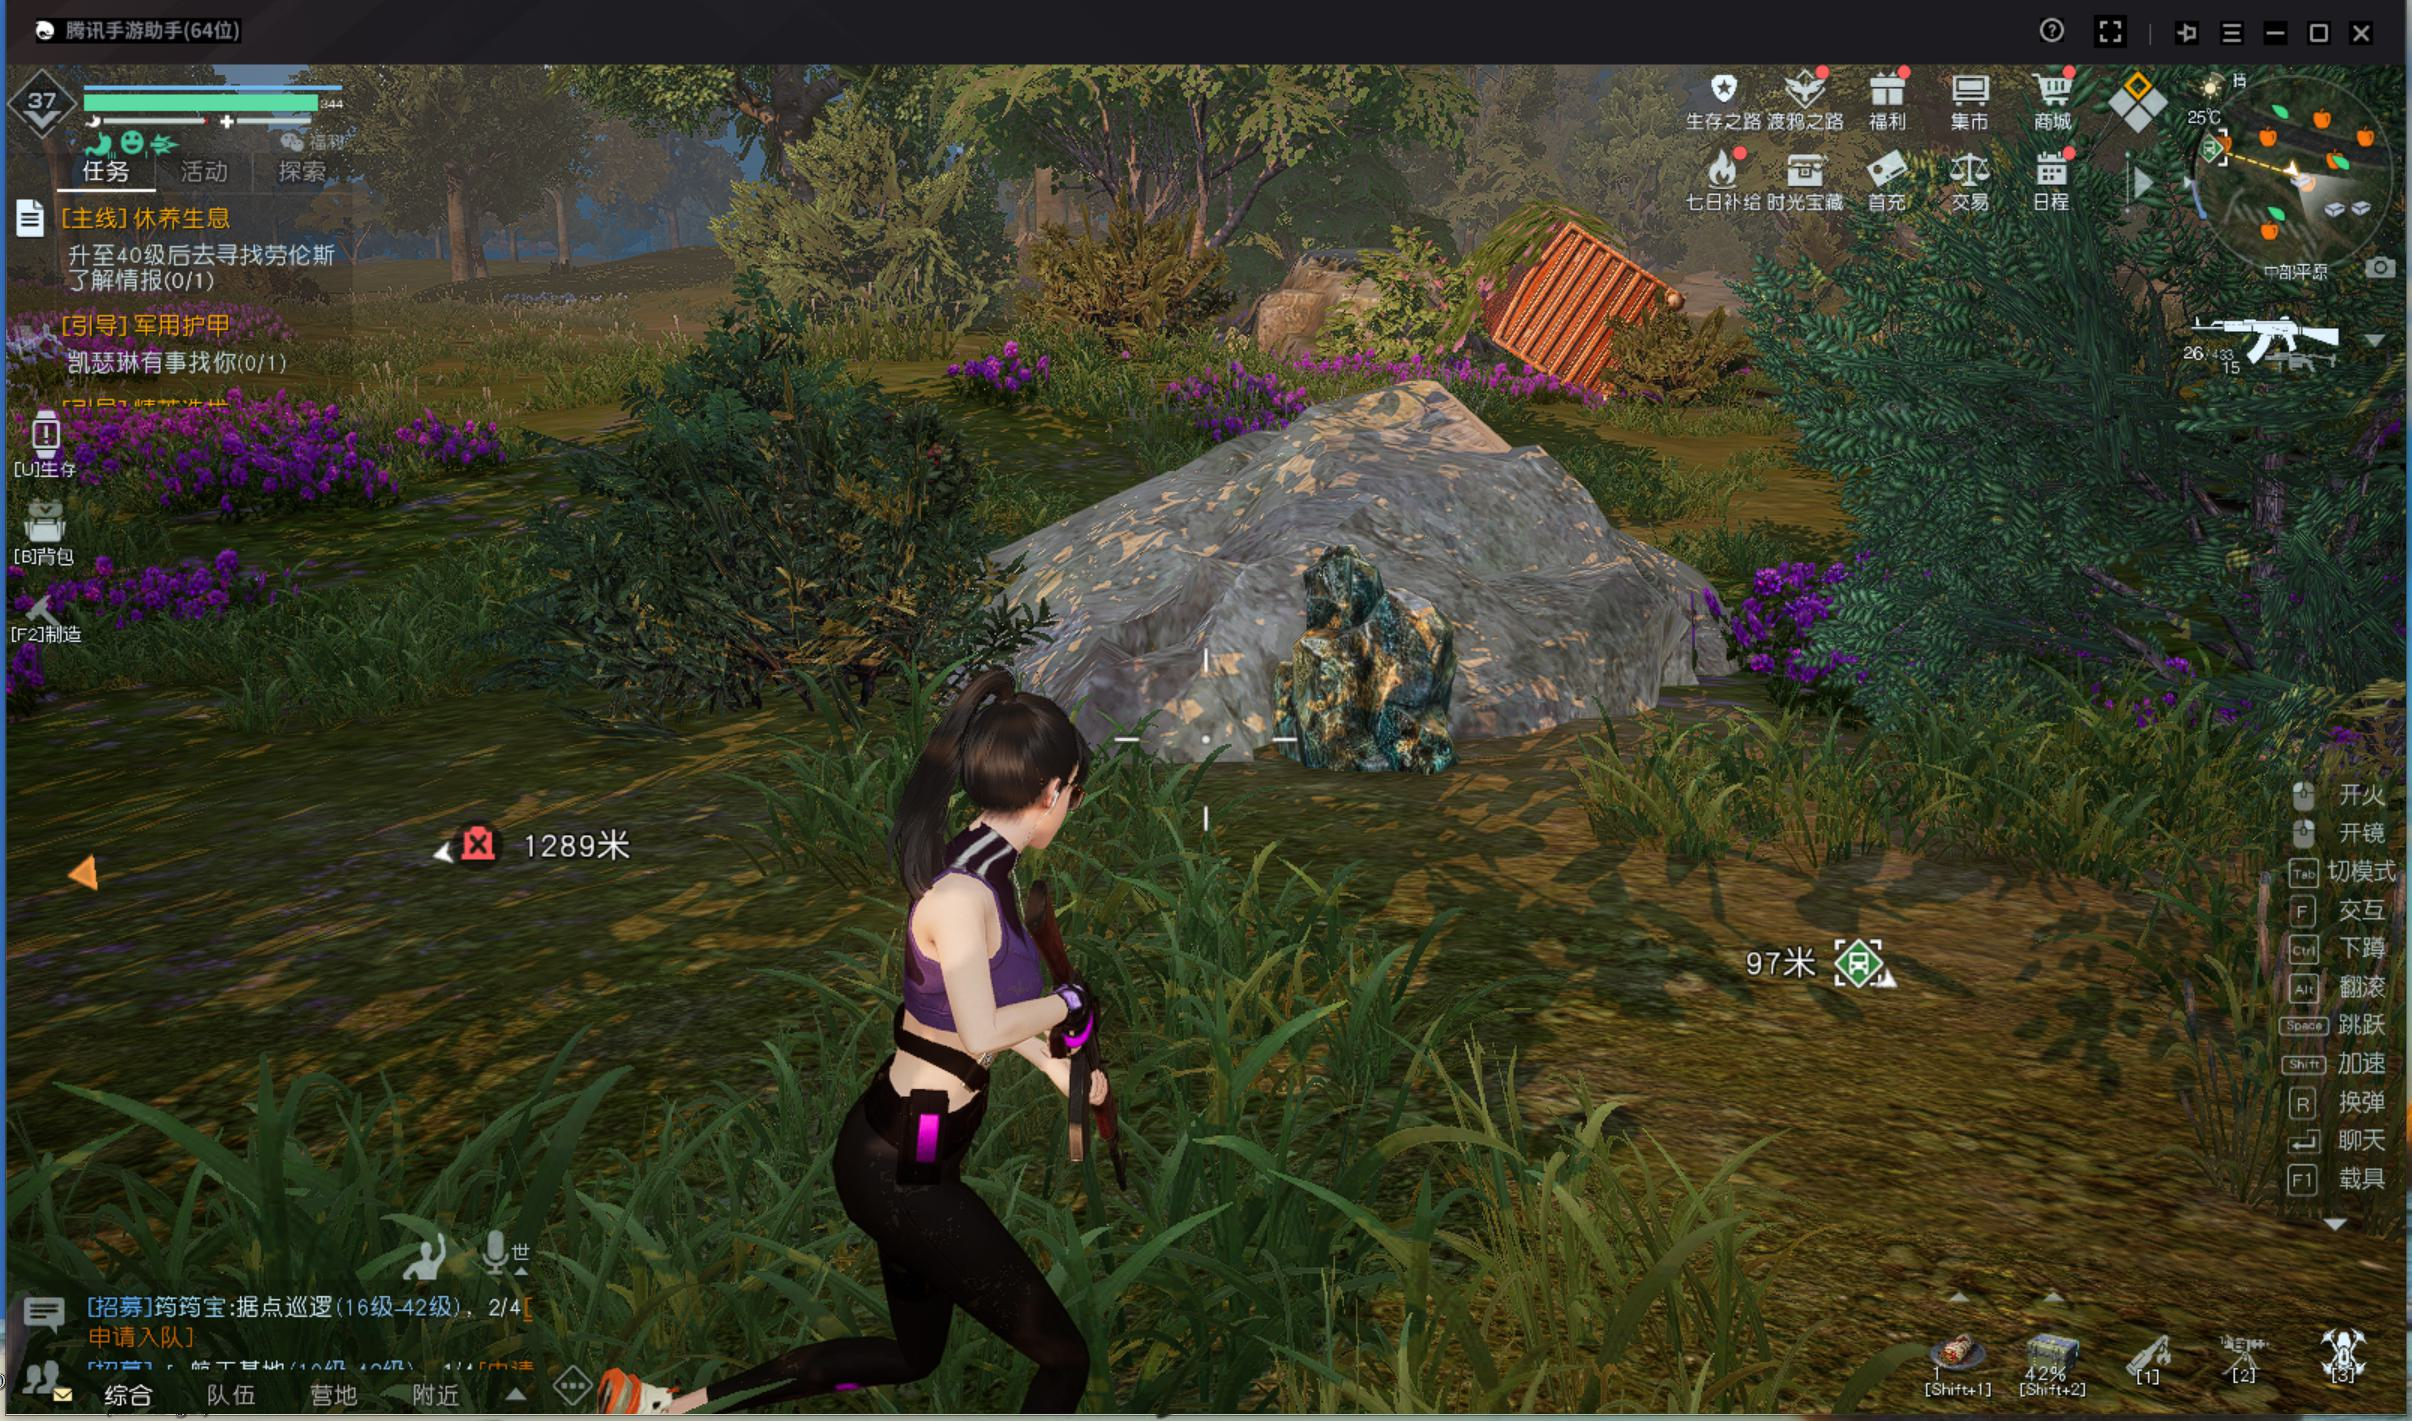stone: (1247, 546, 1473, 776)
